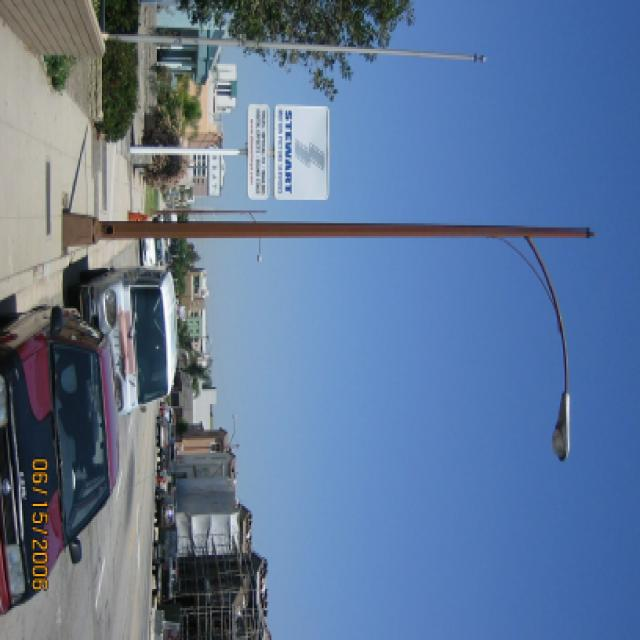Electric pole: (63, 218, 591, 460)
